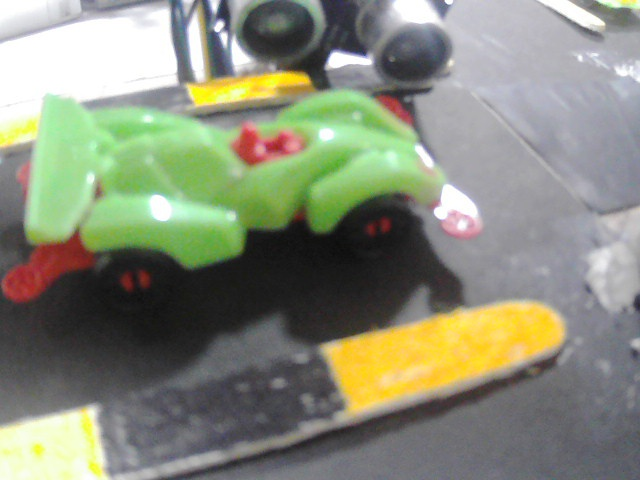car: (9, 97, 490, 301)
uno_breadboard: (209, 3, 484, 96)
